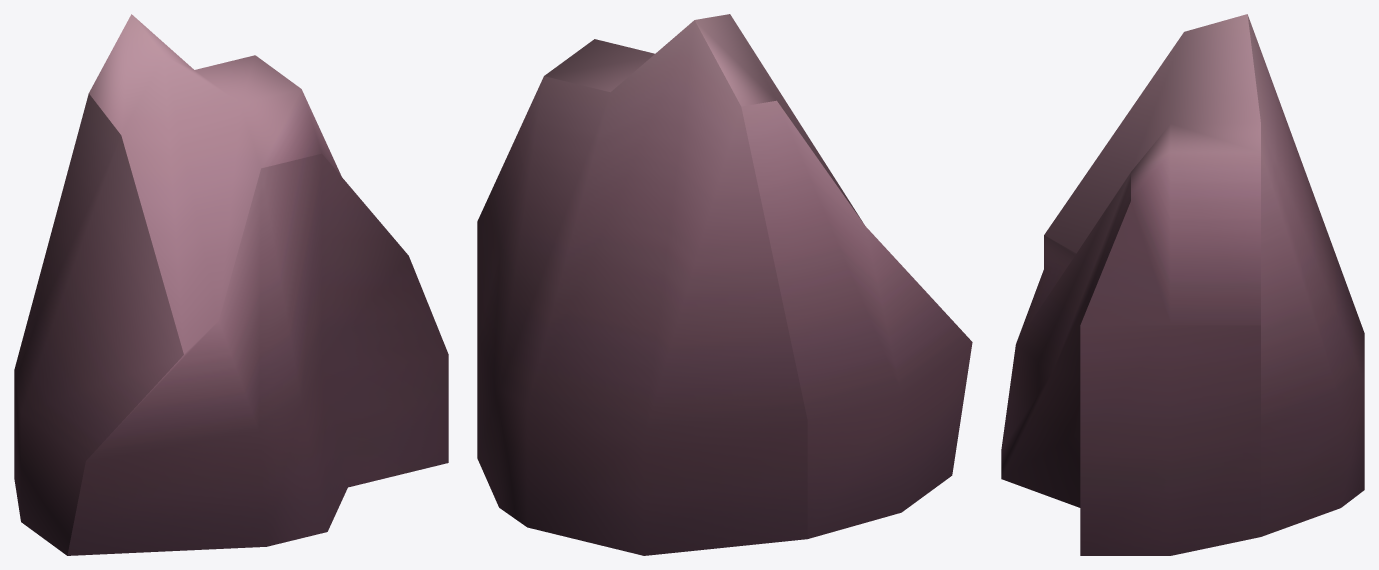
File: rotsformatie.fbx
3 renders of one model, left to right at view 1: azimuth 30°, elevation 25°; view 2: azimuth 150°, elevation 25°; view 3: azimuth 270°, elevation 25°, orthographic. The views are drawn at different scales.
Visible parts, largest first — view 1: rotsformatie_4; view 2: rotsformatie_4; view 3: rotsformatie_4.
Boxes of the visible parts, x1,y1,x2,y2 form: rotsformatie_4: (14,14,448,555); rotsformatie_4: (477,14,972,555); rotsformatie_4: (1001,14,1364,555).
Bounding box in the file's own units: 158 × 175 × 133.
Materials: 1 (1 with a texture image).
